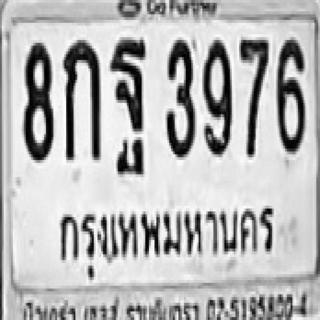A01: (63, 37, 99, 157)
A16: (109, 37, 145, 154)
N03: (164, 37, 193, 154)
N06: (276, 37, 304, 151)
N07: (238, 37, 268, 154)
N08: (22, 40, 52, 160)
N09: (202, 37, 230, 154)
P04: (50, 194, 282, 272)
